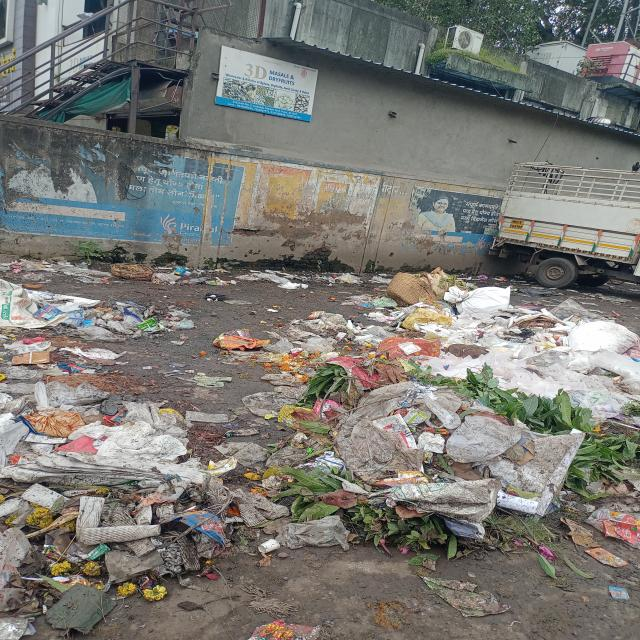garbage: (2, 260, 295, 640), (296, 270, 640, 585)
